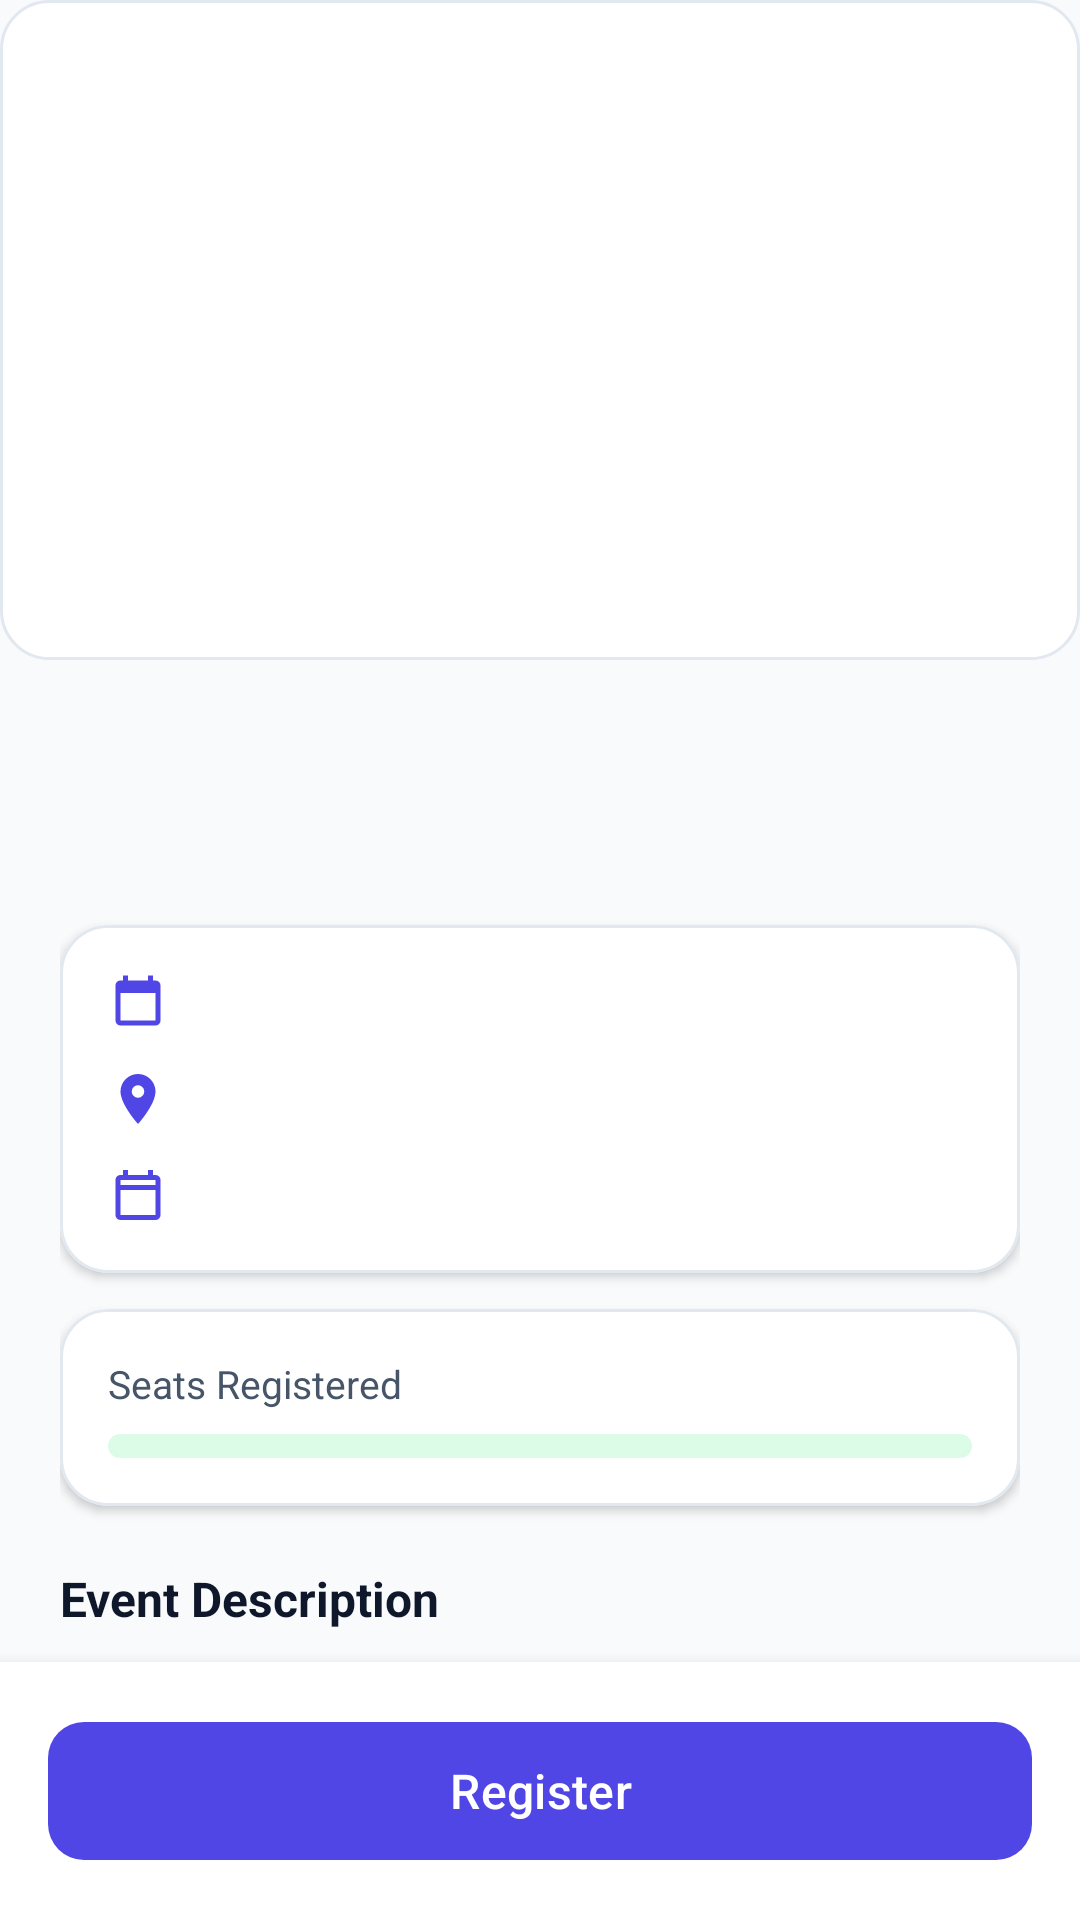

Named icons in this screenshot (1080×1920) and their bounding boxes, [x1=x1, y1=y1, x2=x2, y2=y2]:
location: [x1=120, y1=1074, x2=156, y2=1124]
